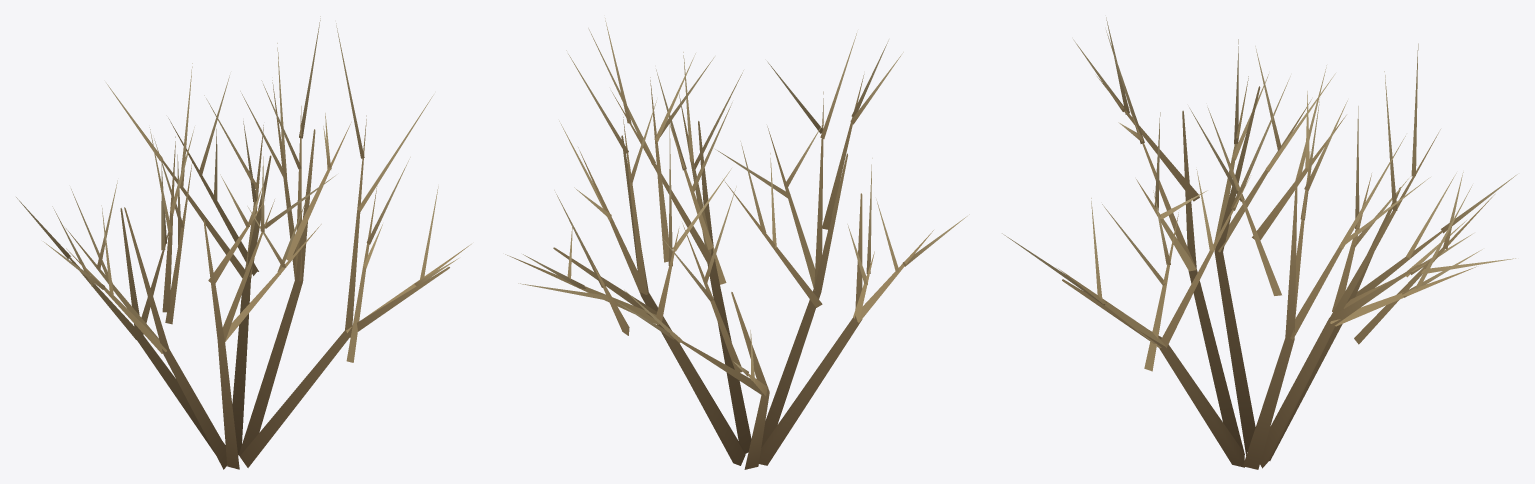
Rendered from dry_bush.glb.
3 views of the same model, side by side, from view 1: azimuth 30°, elevation 25°; view 2: azimuth 150°, elevation 25°; view 3: azimuth 270°, elevation 25° (orthographic). The views are drawn at different scales.
Parts seen in each view (by area): view 1: DryBush; view 2: DryBush; view 3: DryBush.
Boxes of the visible parts, x1,y1,x2,y2 form: DryBush: [16, 16, 471, 469]; DryBush: [505, 18, 969, 469]; DryBush: [1002, 17, 1517, 469].
Bounding box in the file's own units: 1.34 × 1.37 × 1.41.
